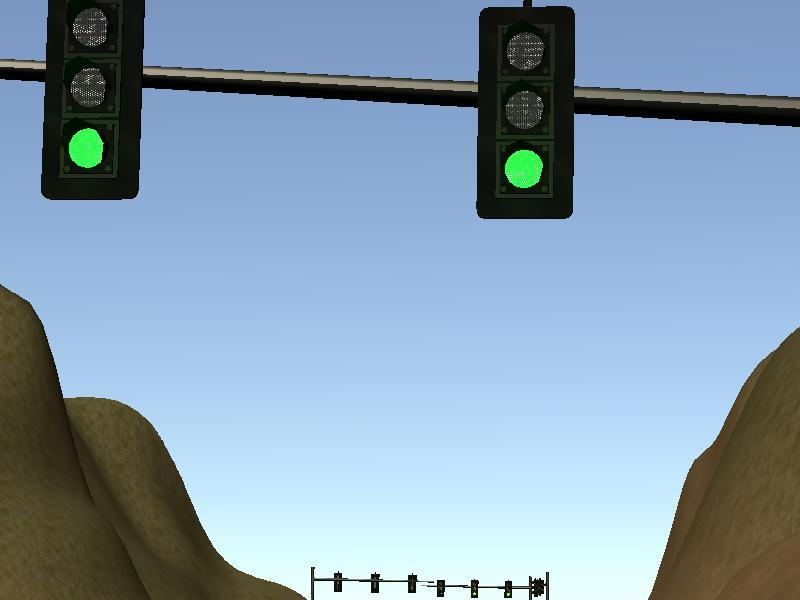Green: (481, 9, 573, 217), (46, 3, 136, 197)
